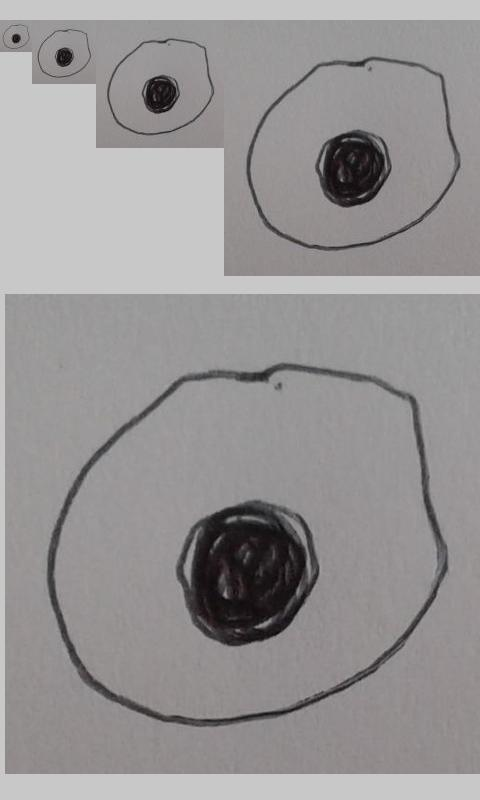radio_button: (45, 359, 452, 730), (245, 56, 463, 252), (106, 38, 215, 136), (36, 28, 93, 79), (2, 23, 30, 50)
